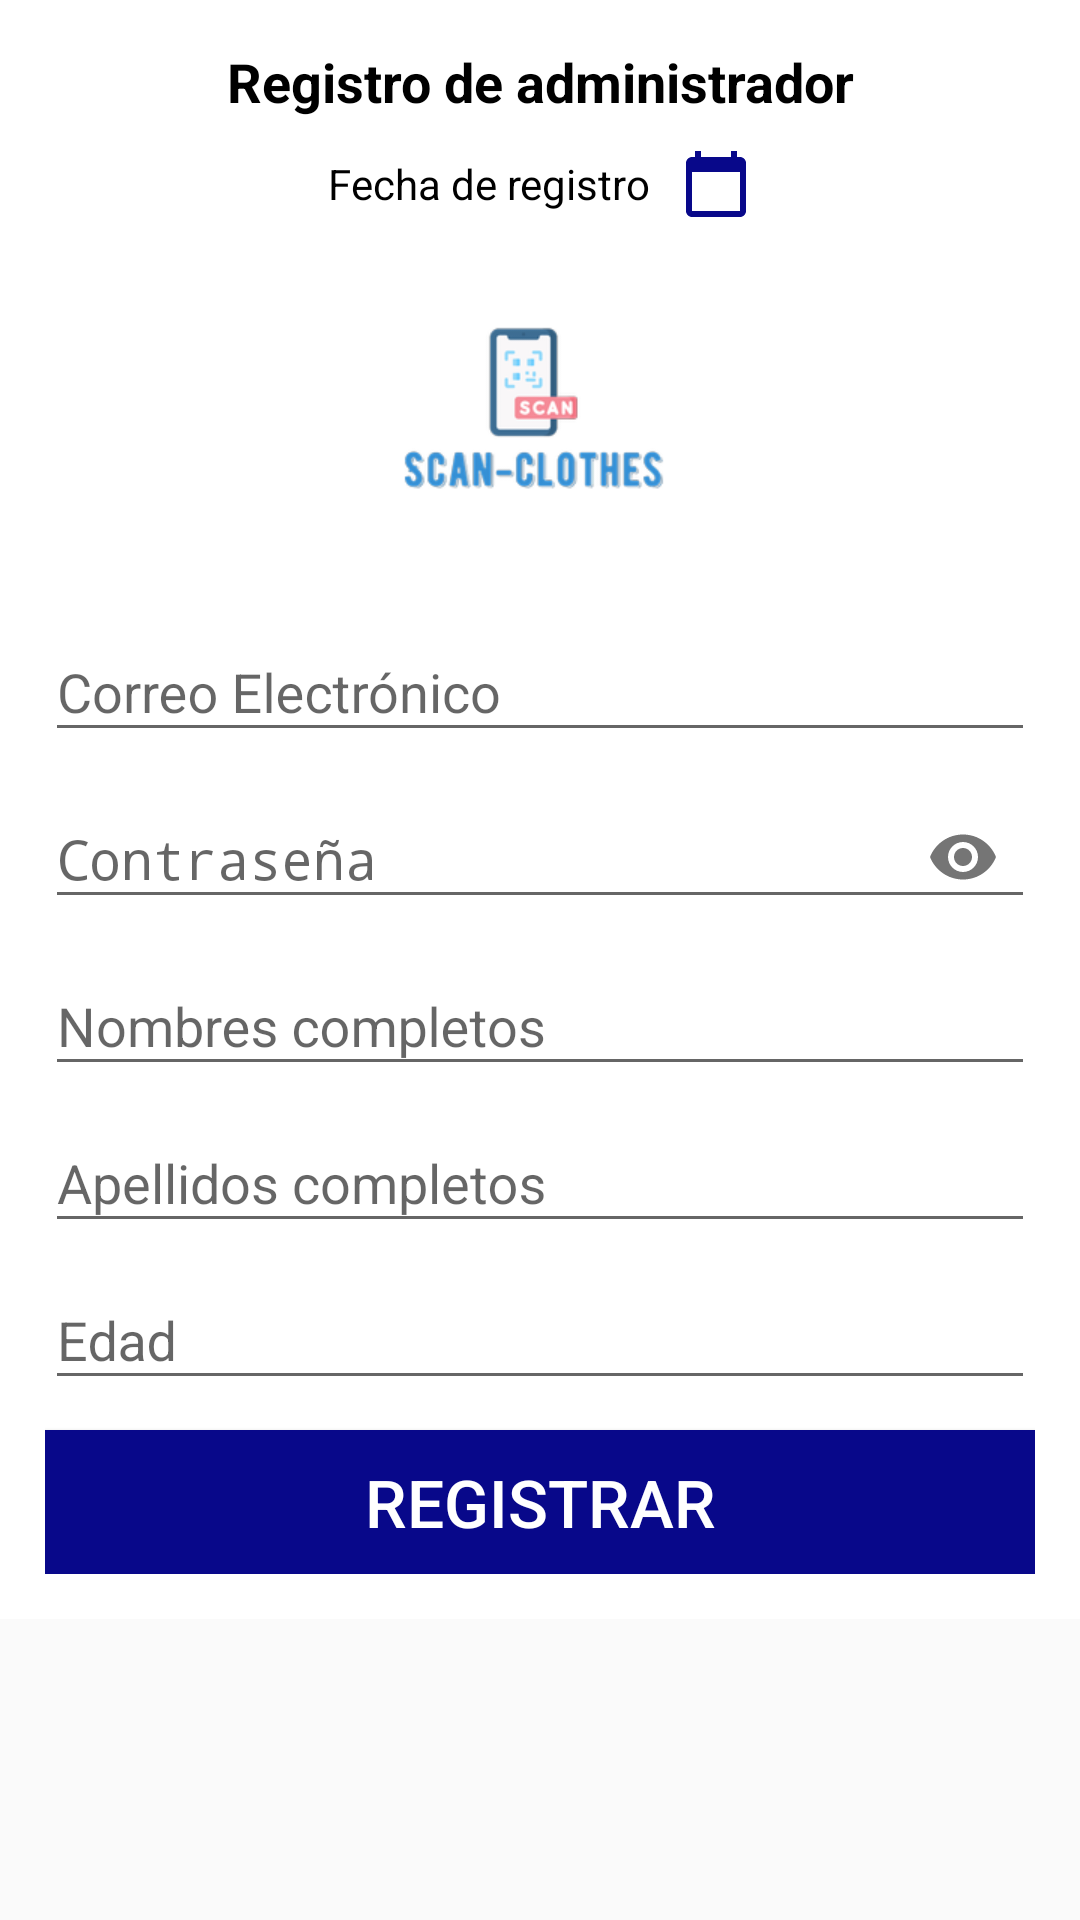

Point at icon controls on the screen. Image size 1080 x 1920, points as (x=x, y=y).
calendario: (x=716, y=184)
